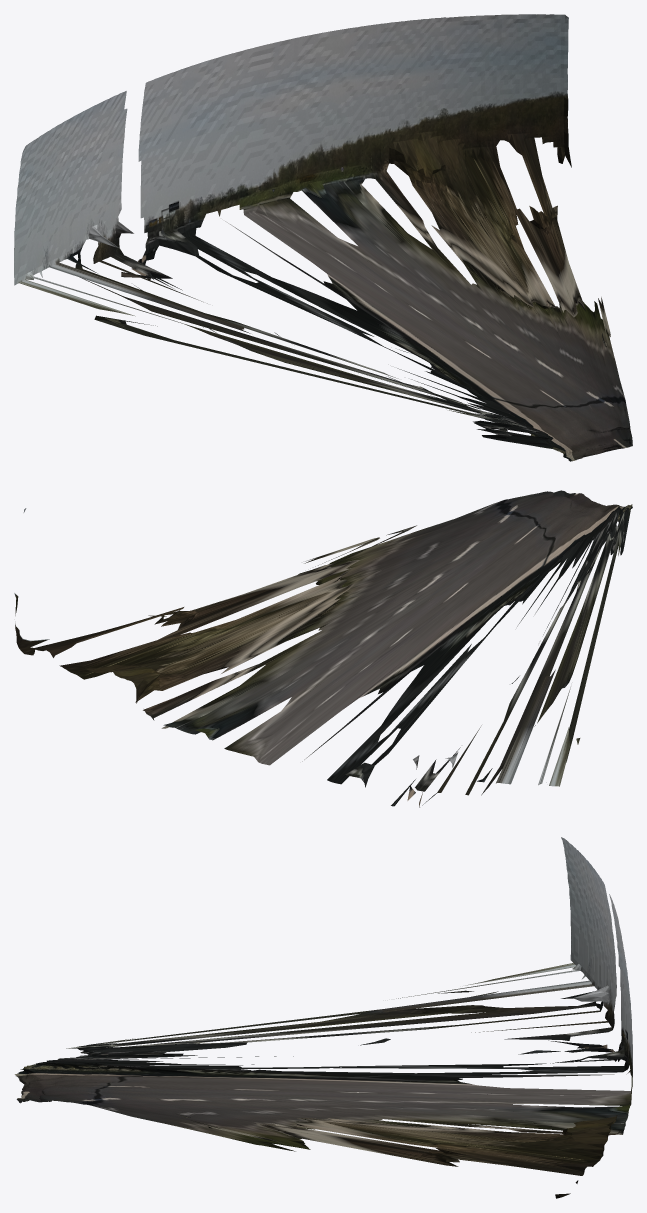
3 views of the same model, one above another, from view 1: azimuth 30°, elevation 25°; view 2: azimuth 150°, elevation 25°; view 3: azimuth 270°, elevation 25° (orthographic). The views are drawn at different scales.
Parts seen in each view (by area): view 1: defaultobject; view 2: defaultobject; view 3: defaultobject.
Part boxes in pixels (bbox=[...]): defaultobject: bbox=[14, 14, 632, 461]; defaultobject: bbox=[14, 490, 632, 807]; defaultobject: bbox=[14, 837, 632, 1198].
Size of the model in its own units: 41.11 by 13.59 by 44.73.
Materials: 1 (1 with a texture image).
